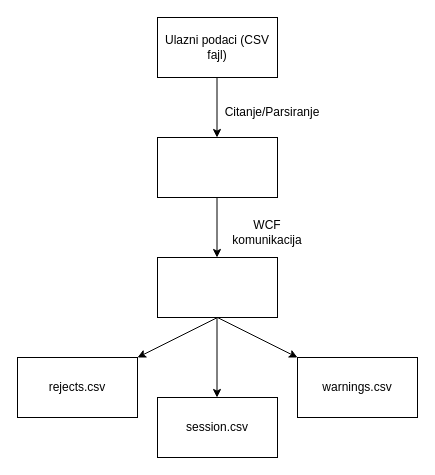
Image size: 435x475. Some labels were removed from this diagram. Here are the shapes that lost their labels. From the top down, the centre of each, then its label:
At (217,167): "Client -StartSession() -PushSample() -EndSession()".
At (217,287): "Service -Validation -Events -Log Status".
